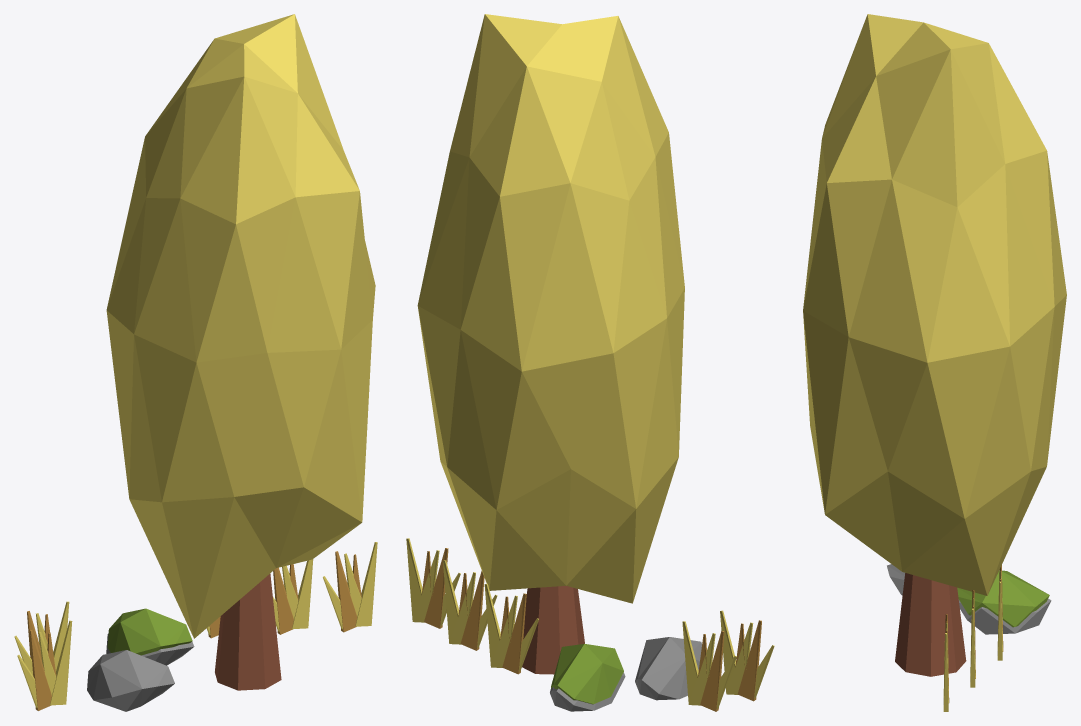
Rendered from comp1_M.gltf.
The picture shows the model from 3 angles, left to right: view 1: azimuth 30°, elevation 25°; view 2: azimuth 150°, elevation 25°; view 3: azimuth 270°, elevation 25°; orthographic projection.
Parts seen in each view (by area): view 1: Tree_05_autumn_mat, Stone_2_mat, Stone_2_moss_mat, Grass_1_Autumn_2_mat.006, Grass_1_Autumn_2_mat.002, Grass_1_Autumn_2_mat.007, Grass_1_Autumn_2_mat.001; view 2: Tree_05_autumn_mat, Stone_2_moss_mat, Stone_2_mat, Grass_1_Autumn_2_mat.001, Grass_1_Autumn_2_mat.004, Grass_1_Autumn_2_mat.007, Grass_1_Autumn_2_mat.002, Grass_1_Autumn_2_mat.006; view 3: Tree_05_autumn_mat, Stone_2_moss_mat, Grass_1_Autumn_2_mat.007, Grass_1_Autumn_2_mat.006, Grass_1_Autumn_2_mat.004.
Part boxes in pixels (box(x1,y1,x2,y2)): Tree_05_autumn_mat: box(106, 14, 375, 690); Stone_2_mat: box(87, 650, 174, 711); Stone_2_moss_mat: box(106, 608, 194, 665); Grass_1_Autumn_2_mat.006: box(323, 542, 377, 632); Grass_1_Autumn_2_mat.002: box(17, 620, 72, 710); Grass_1_Autumn_2_mat.007: box(273, 559, 313, 634); Grass_1_Autumn_2_mat.001: box(14, 601, 69, 675); Tree_05_autumn_mat: box(417, 14, 684, 674); Stone_2_moss_mat: box(550, 643, 625, 711); Stone_2_mat: box(635, 637, 702, 700); Grass_1_Autumn_2_mat.001: box(682, 621, 736, 711); Grass_1_Autumn_2_mat.004: box(484, 583, 538, 674); Grass_1_Autumn_2_mat.007: box(443, 560, 497, 650); Grass_1_Autumn_2_mat.002: box(720, 610, 774, 701); Grass_1_Autumn_2_mat.006: box(406, 538, 460, 628); Tree_05_autumn_mat: box(803, 14, 1066, 676); Stone_2_moss_mat: box(957, 570, 1051, 634); Grass_1_Autumn_2_mat.007: box(970, 590, 975, 687); Grass_1_Autumn_2_mat.006: box(943, 614, 949, 711); Grass_1_Autumn_2_mat.004: box(997, 565, 1003, 660).
Bounding box in the file's own units: 6.32 × 10.63 × 3.97.
